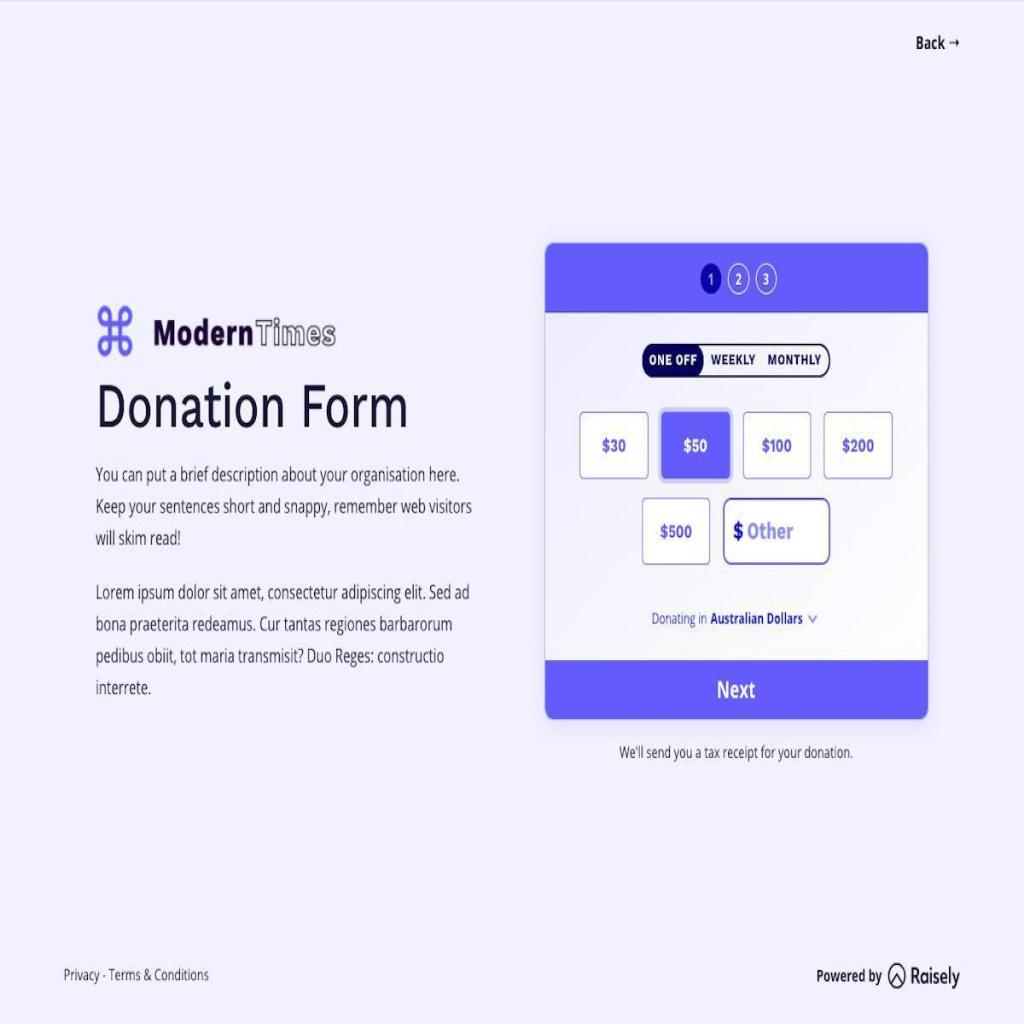button: (544, 659, 928, 720), (660, 409, 732, 478), (581, 410, 649, 478), (743, 410, 808, 481), (825, 411, 893, 477), (643, 500, 709, 564), (645, 346, 702, 376)
input: (724, 498, 831, 565)
label: (765, 350, 824, 373), (710, 349, 757, 371)
